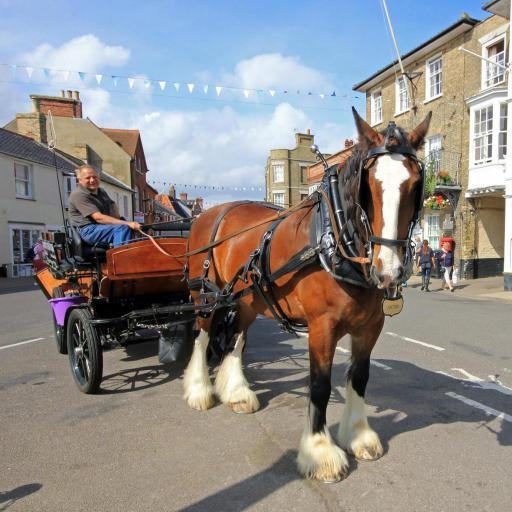horse: (180, 106, 434, 486)
